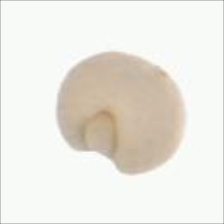L5: (122, 50, 179, 87), (81, 109, 119, 159)
L6: (55, 44, 188, 179)
